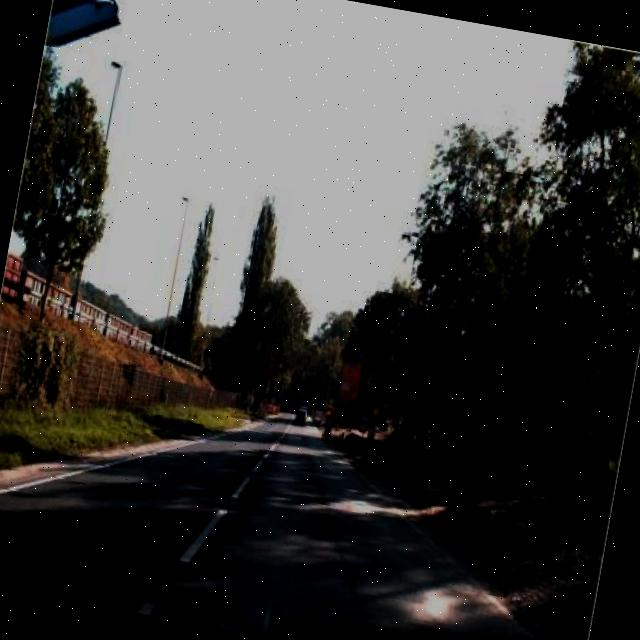Ograniczenie predkosci do 30: (358, 388, 377, 412)
